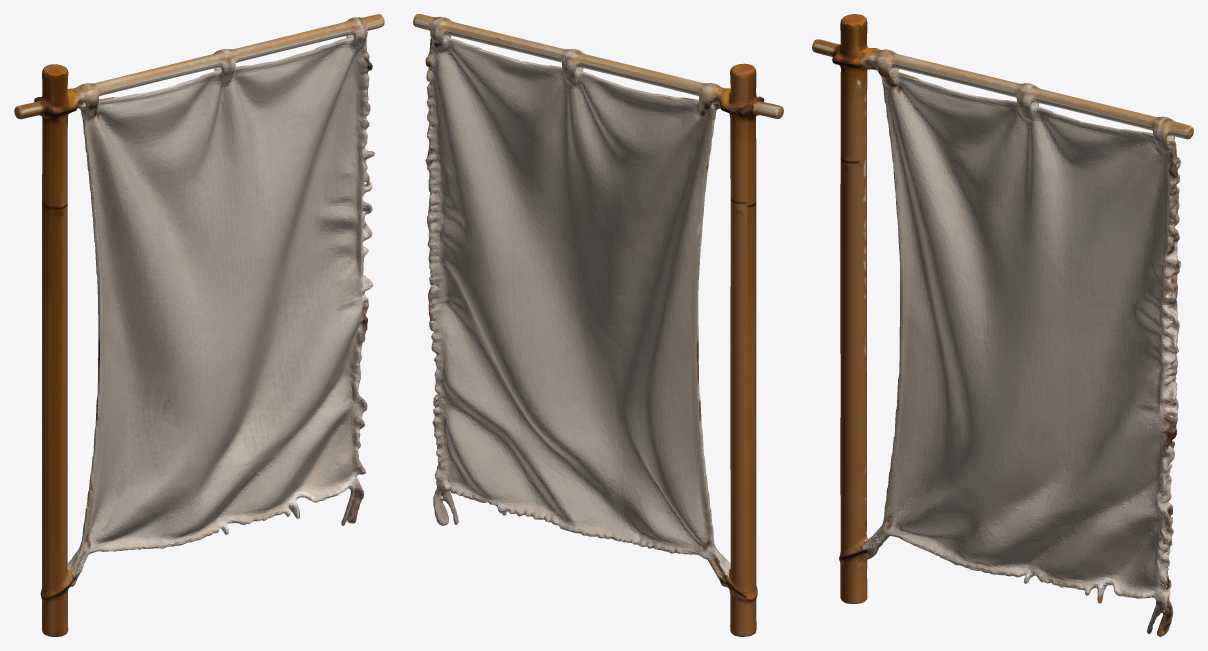
File: mdl_flag_001.glb
3 renders of one model, left to right at view 1: azimuth 30°, elevation 25°; view 2: azimuth 150°, elevation 25°; view 3: azimuth 330°, elevation 25°, orthographic. The views are drawn at different scales.
Parts seen in each view (by area): view 1: tmpwcvdipya.ply; view 2: tmpwcvdipya.ply; view 3: tmpwcvdipya.ply.
Part boxes in pixels (x1,y1,x2,y2): tmpwcvdipya.ply: [14, 14, 384, 636]; tmpwcvdipya.ply: [413, 14, 783, 636]; tmpwcvdipya.ply: [812, 14, 1193, 636].
Size of the model in its own units: 0.6701 by 0.9871 by 0.0765.
1 material, 1 textured.
